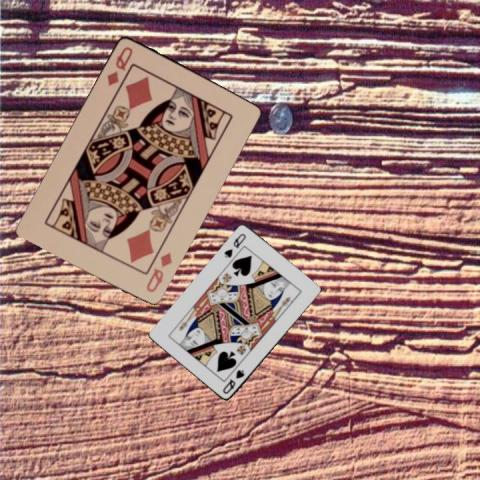Qd: (103, 43, 135, 87), (143, 249, 174, 294)
Qs: (219, 368, 246, 396), (222, 231, 248, 259)
